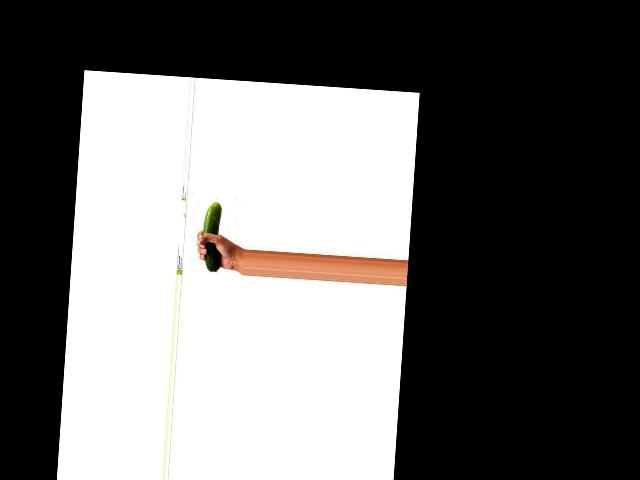cucumber: (199, 201, 223, 271)
